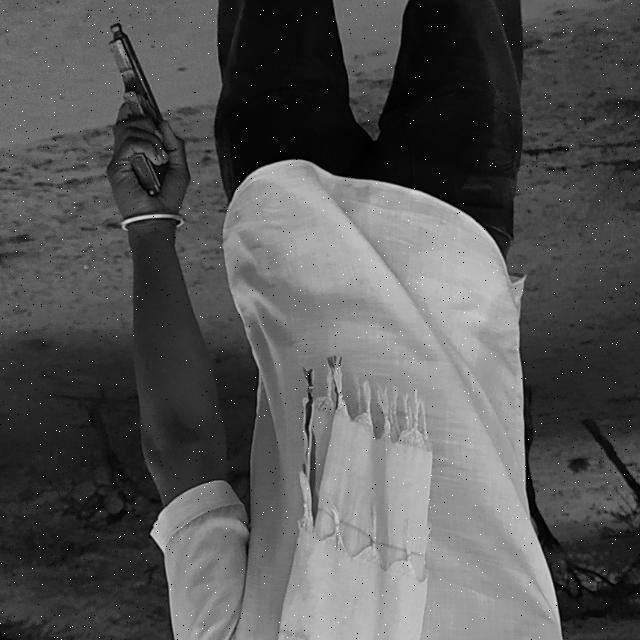gun: (93, 11, 182, 201)
